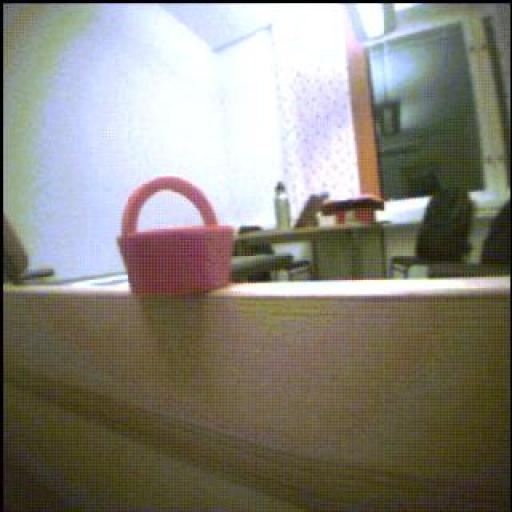Bucket: (118, 177, 235, 295)
